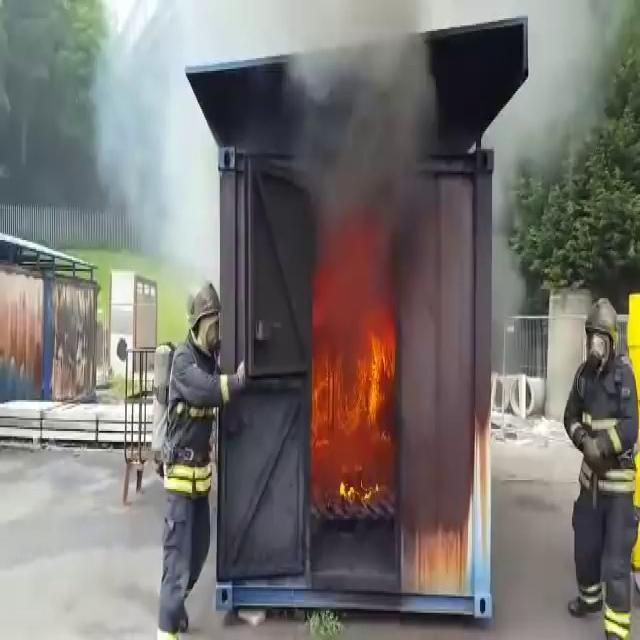Fire: (319, 213, 394, 518)
Smoke: (265, 0, 452, 159)
